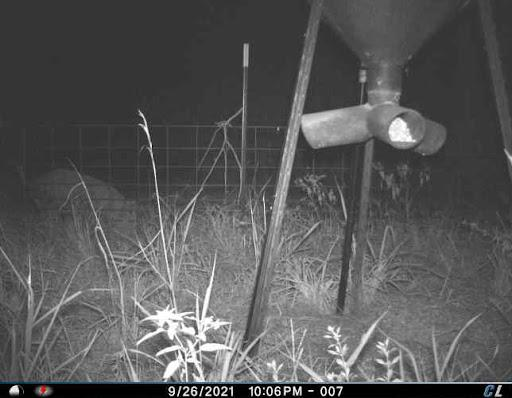Hog: (23, 164, 154, 242)
